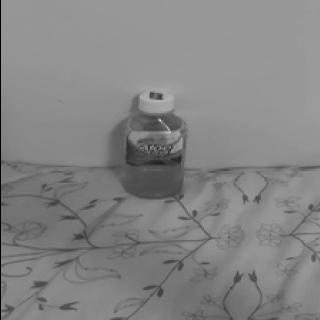plastic_bottles: (118, 84, 188, 204)
